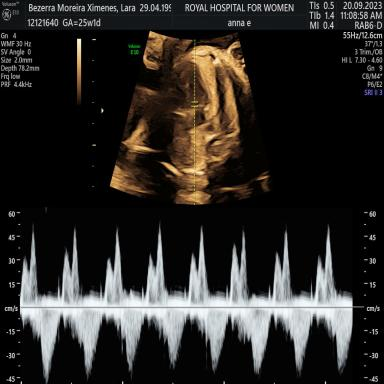Ultrasound-Waves: (24, 210, 353, 384)
